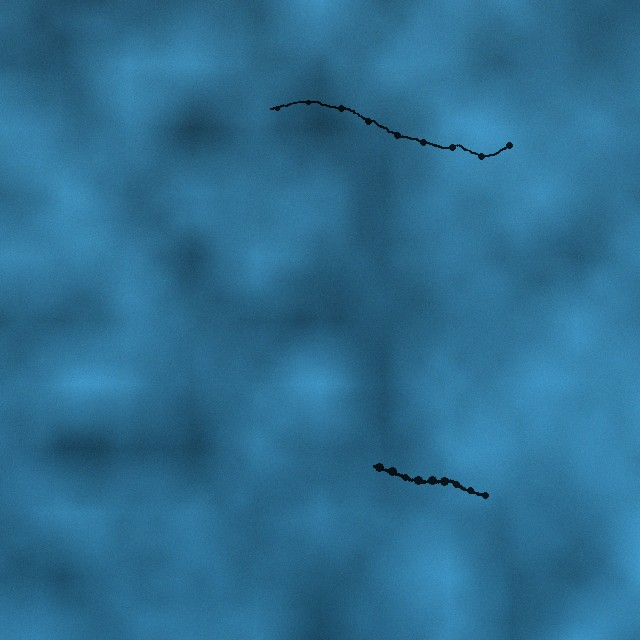crack: (266, 97, 513, 160), (368, 461, 490, 500)
